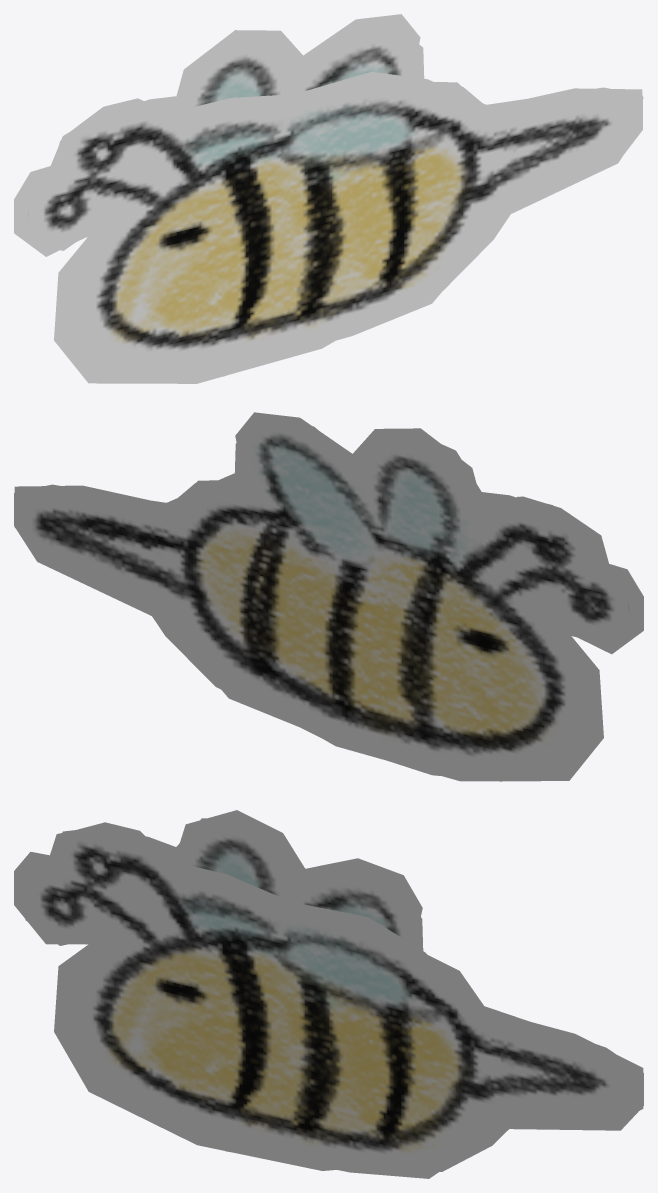
The model's file is BeeMove.fbx.
3 renders of one model, top to bottom at view 1: azimuth 30°, elevation 25°; view 2: azimuth 150°, elevation 25°; view 3: azimuth 330°, elevation 25°, orthographic.
Visible parts, largest first — view 1: BeeMove4, BeeMove3, BeeMove2, BeeMove1; view 2: BeeMove1, BeeMove2, BeeMove3, BeeMove4; view 3: BeeMove4, BeeMove3, BeeMove2, BeeMove1.
Part boxes in pixels (left/top/right/bottom): BeeMove4: left=29, top=72, right=643, bottom=377; BeeMove3: left=38, top=26, right=642, bottom=358; BeeMove2: left=14, top=88, right=642, bottom=383; BeeMove1: left=71, top=14, right=622, bottom=376; BeeMove1: left=14, top=412, right=632, bottom=781; BeeMove2: left=14, top=485, right=643, bottom=781; BeeMove3: left=152, top=426, right=589, bottom=702; BeeMove4: left=46, top=473, right=608, bottom=726; BeeMove4: left=25, top=826, right=641, bottom=1178; BeeMove3: left=37, top=818, right=642, bottom=1171; BeeMove2: left=14, top=829, right=643, bottom=1170; BeeMove1: left=77, top=810, right=643, bottom=1151.
Size of the model in its own units: 40 by 20.91 by 0.2874.
Materials: 1 (1 with a texture image).
